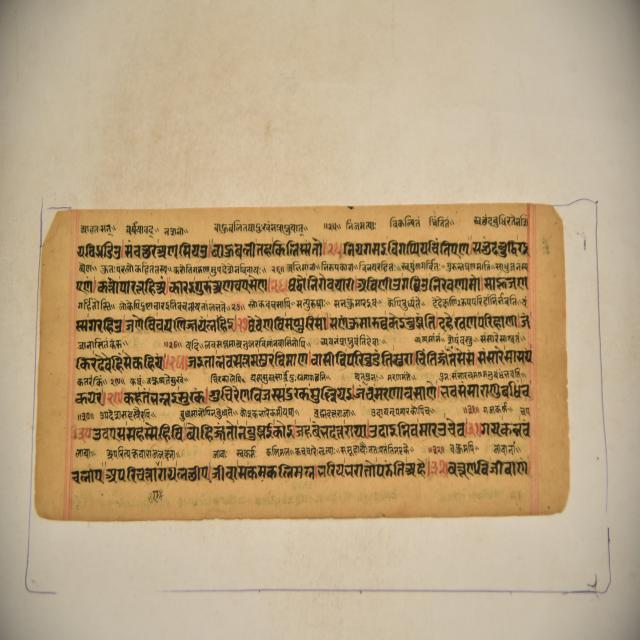text_paragraph: (31, 210, 569, 522)
